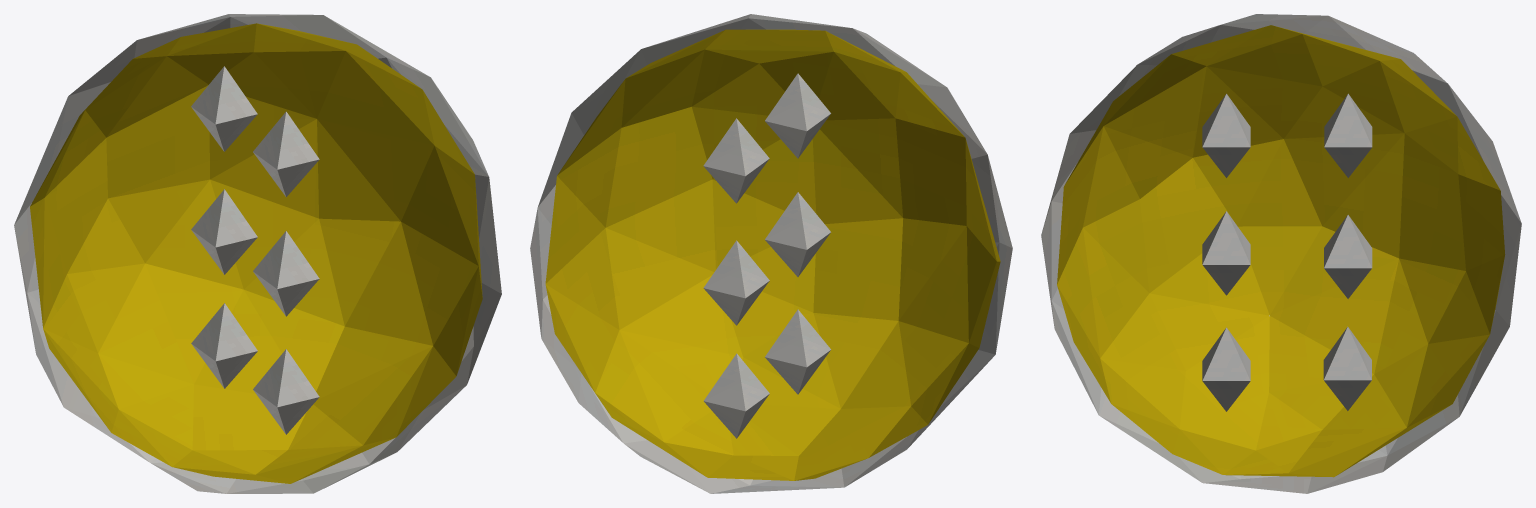
Rendered from item_quest_dball_6.glb.
3 renders of one model, left to right at view 1: azimuth 30°, elevation 25°; view 2: azimuth 150°, elevation 25°; view 3: azimuth 270°, elevation 25°, orthographic.
Visible parts, largest first — view 1: DragonBall, DragonBall.001, Diamond.004, Diamond.005, Diamond, Diamond.003, Diamond.001, Diamond.002; view 2: DragonBall, DragonBall.001, Diamond.002, Diamond.005, Diamond, Diamond.001, Diamond.003, Diamond.004; view 3: DragonBall, DragonBall.001, Diamond, Diamond.004, Diamond.005, Diamond.001, Diamond.002, Diamond.003.
Part boxes in pixels (x1,y1,x2,y2): DragonBall: (30,23,482,483); DragonBall.001: (14,14,501,493); Diamond.004: (253,231,319,316); Diamond.005: (191,303,257,388); Diamond: (253,111,319,197); Diamond.003: (253,349,319,434); Diamond.001: (191,66,257,151); Diamond.002: (191,189,257,274); DragonBall: (545,29,1000,480); DragonBall.001: (530,14,1012,493); Diamond.002: (703,240,769,325); Diamond.005: (703,353,769,438); Diamond: (765,73,830,158); Diamond.001: (703,118,769,203); Diamond.003: (765,309,830,394); Diamond.004: (765,192,830,276); DragonBall: (1057,25,1505,477); DragonBall.001: (1041,14,1521,493); Diamond: (1202,93,1250,177); Diamond.004: (1202,211,1250,295); Diamond.005: (1323,326,1371,410); Diamond.001: (1324,93,1372,177); Diamond.002: (1324,215,1372,298); Diamond.003: (1202,327,1250,411).
Size of the model in its own units: 0.3543 by 0.3537 by 0.3537.
2 materials, 2 textured.
